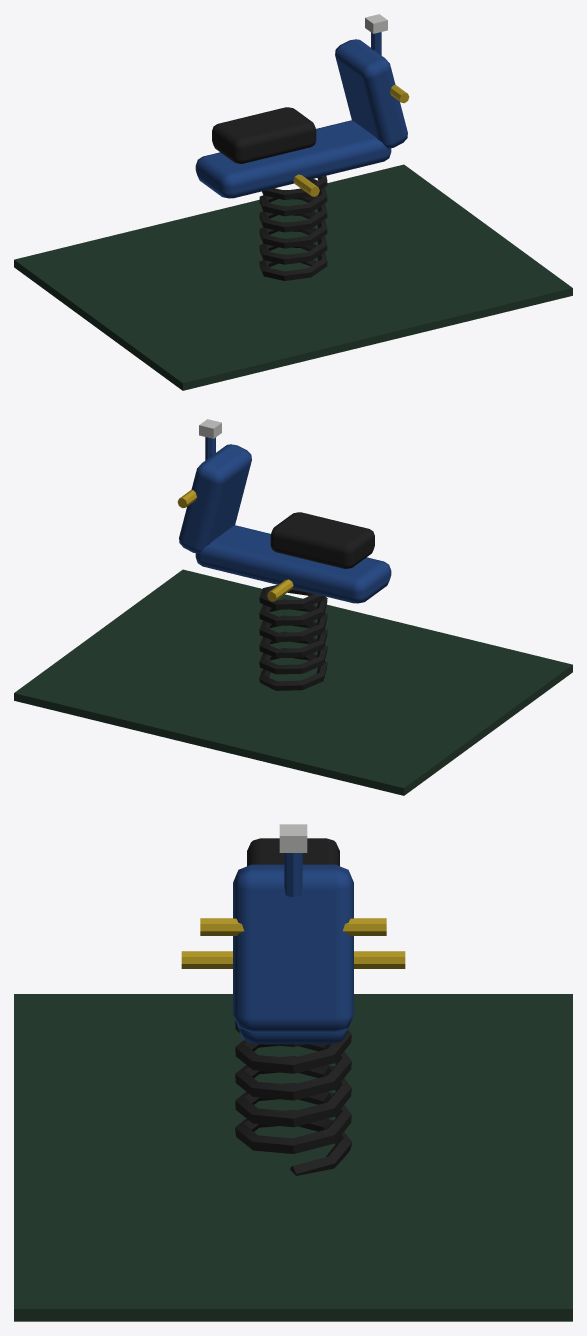
Rendered from SM_Prop_play_springer_1.glb.
3 views of the same model, one above another, from view 1: azimuth 30°, elevation 25°; view 2: azimuth 150°, elevation 25°; view 3: azimuth 270°, elevation 25° (orthographic). The views are drawn at different scales.
Parts seen in each view (by area): view 1: SM_Prop_play_springer_1; view 2: SM_Prop_play_springer_1; view 3: SM_Prop_play_springer_1.
Part boxes in pixels (x1,y1,x2,y2): SM_Prop_play_springer_1: (14, 14, 572, 390); SM_Prop_play_springer_1: (14, 419, 572, 795); SM_Prop_play_springer_1: (14, 824, 572, 1321).
Bounding box in the file's own units: 1.6 × 0.95 × 1.2.
